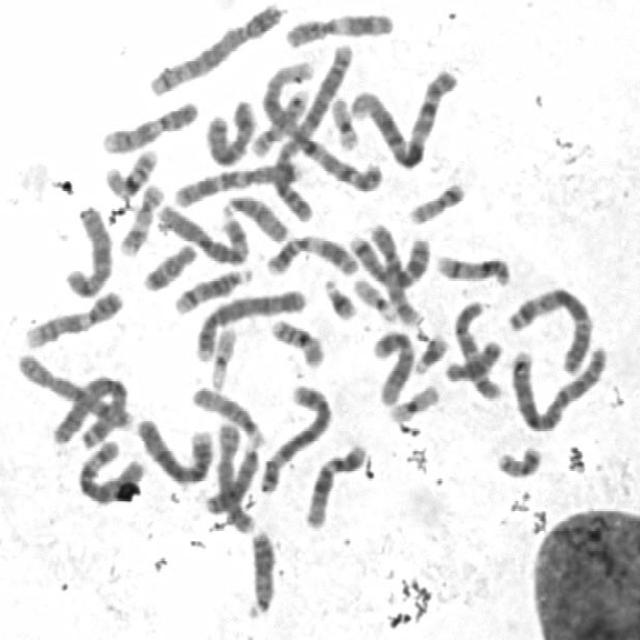A1: (258, 54, 384, 194), (346, 62, 460, 171)
A2: (267, 37, 356, 221), (507, 338, 612, 433)
A3: (504, 281, 594, 376), (46, 370, 131, 448)
B4: (190, 282, 310, 363), (132, 411, 215, 487)
B5: (145, 0, 285, 98), (254, 379, 334, 495)
C10: (365, 219, 424, 327), (448, 296, 505, 402)
C11: (278, 6, 396, 50), (261, 228, 360, 278)
C12: (300, 437, 368, 530), (368, 324, 418, 408)
C6: (152, 199, 250, 265), (75, 432, 147, 507)
C7: (168, 156, 305, 210), (346, 226, 432, 288)
C8: (12, 348, 132, 432), (213, 419, 258, 537)
C9: (21, 284, 127, 350), (98, 94, 203, 156)
D13: (203, 441, 261, 516), (241, 524, 277, 620)
D14: (169, 261, 256, 316), (431, 249, 514, 288)
D15: (188, 379, 268, 448), (217, 190, 291, 243)
E16: (98, 142, 160, 199), (265, 313, 328, 369)
E17: (248, 82, 310, 159), (116, 179, 167, 257)
E18: (138, 237, 198, 293), (440, 334, 503, 384)
F19: (385, 379, 442, 423), (328, 92, 361, 152)
F20: (406, 176, 470, 226), (492, 440, 545, 480)
G21: (408, 326, 451, 376), (320, 271, 360, 322)
G22: (350, 272, 401, 324), (206, 320, 239, 391)
X: (59, 200, 115, 299), (200, 92, 258, 168)
